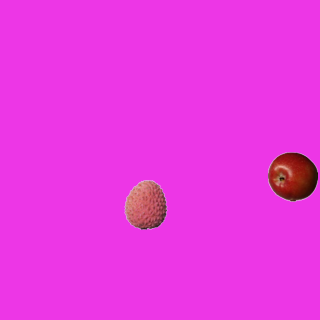Apple Braeburn: (267, 151, 317, 201)
Lychee: (120, 179, 170, 229)
